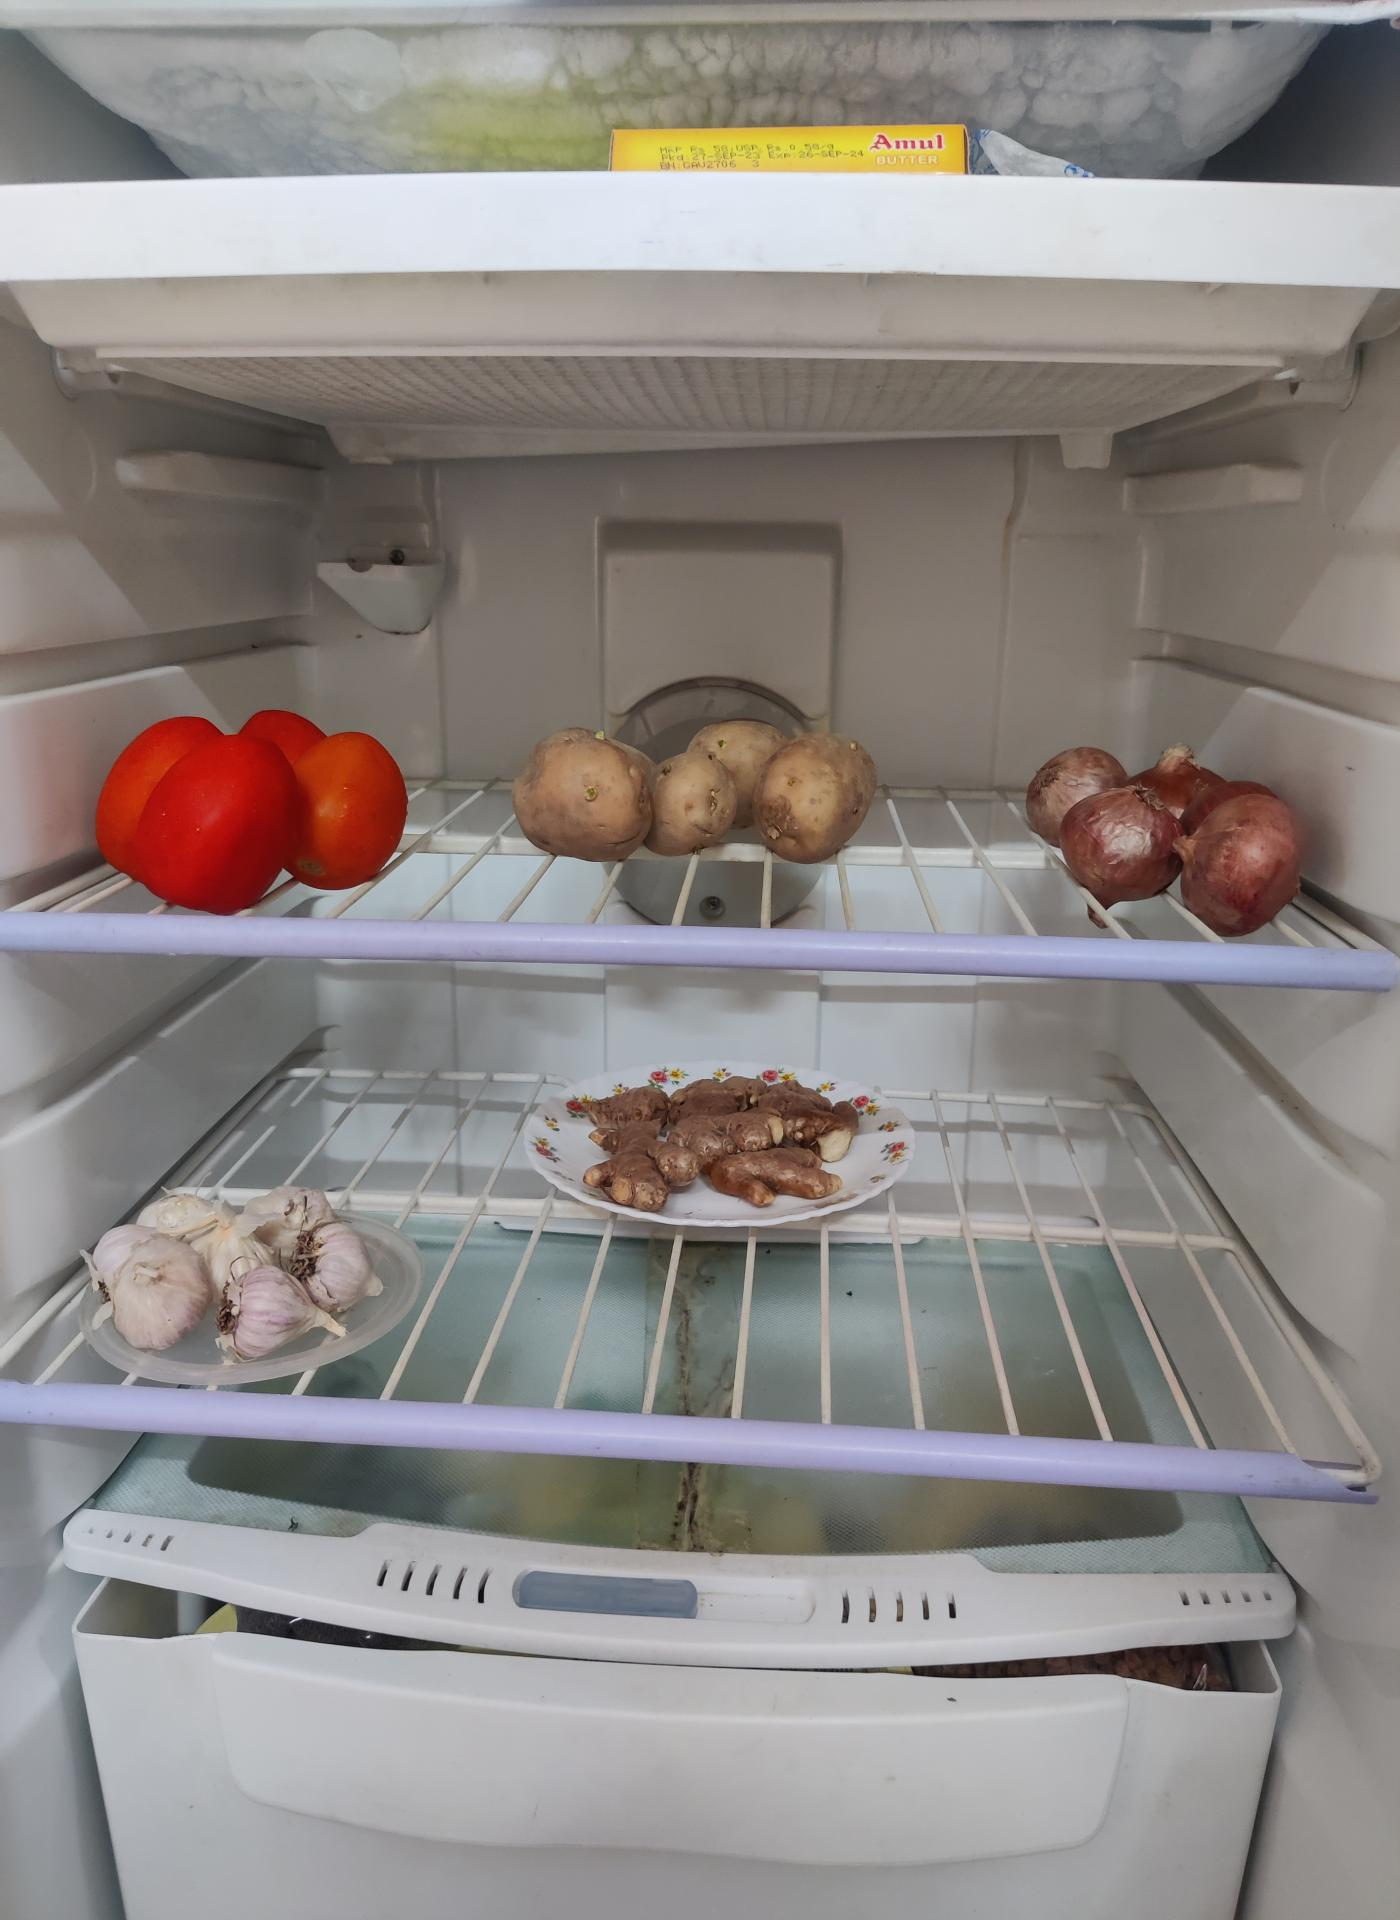garlic: (97, 1182, 380, 1352)
ginger: (540, 1067, 886, 1213)
onion: (1027, 739, 1309, 929)
potato: (519, 720, 884, 866)
tomato: (101, 710, 414, 909)
